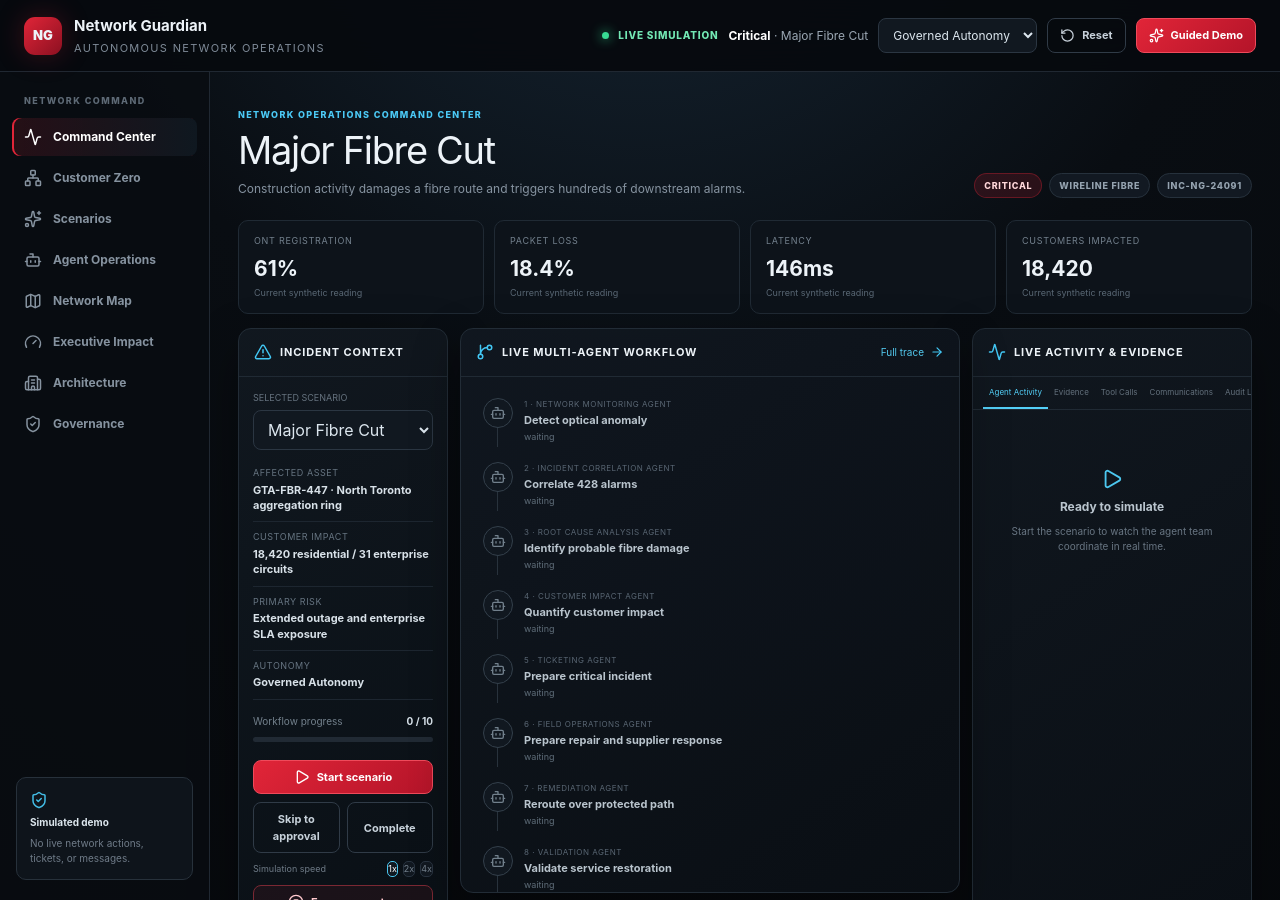
Scenario: Network Guardian › loads the IMS hardware failure scenario and its Voice Assurance Agent
Select "IMS Voice Core Hardware Failure" in the dropdown labelled "Selected scenario" at point(343, 430), box [253,410,433,450]
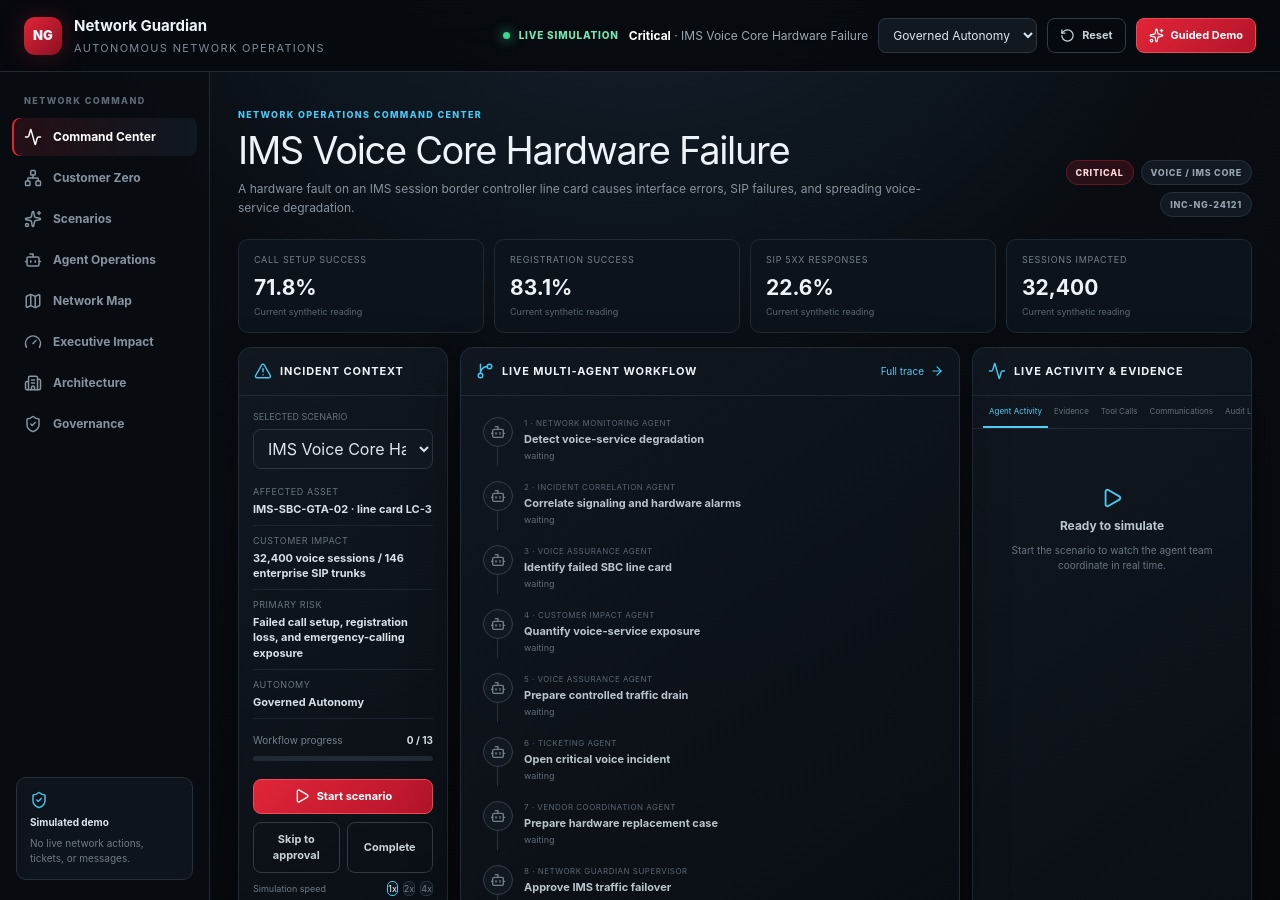
expect the heading "IMS Voice Core Hardware Failure" is shown: met, box [238,127,789,173]
expect the text "IMS-SBC-GTA-02 · line card LC-3" is shown: met, box [253,502,433,517]
Click the text "Identify failed SBC line card".
click(598, 567)  # box [524,560,672,574]
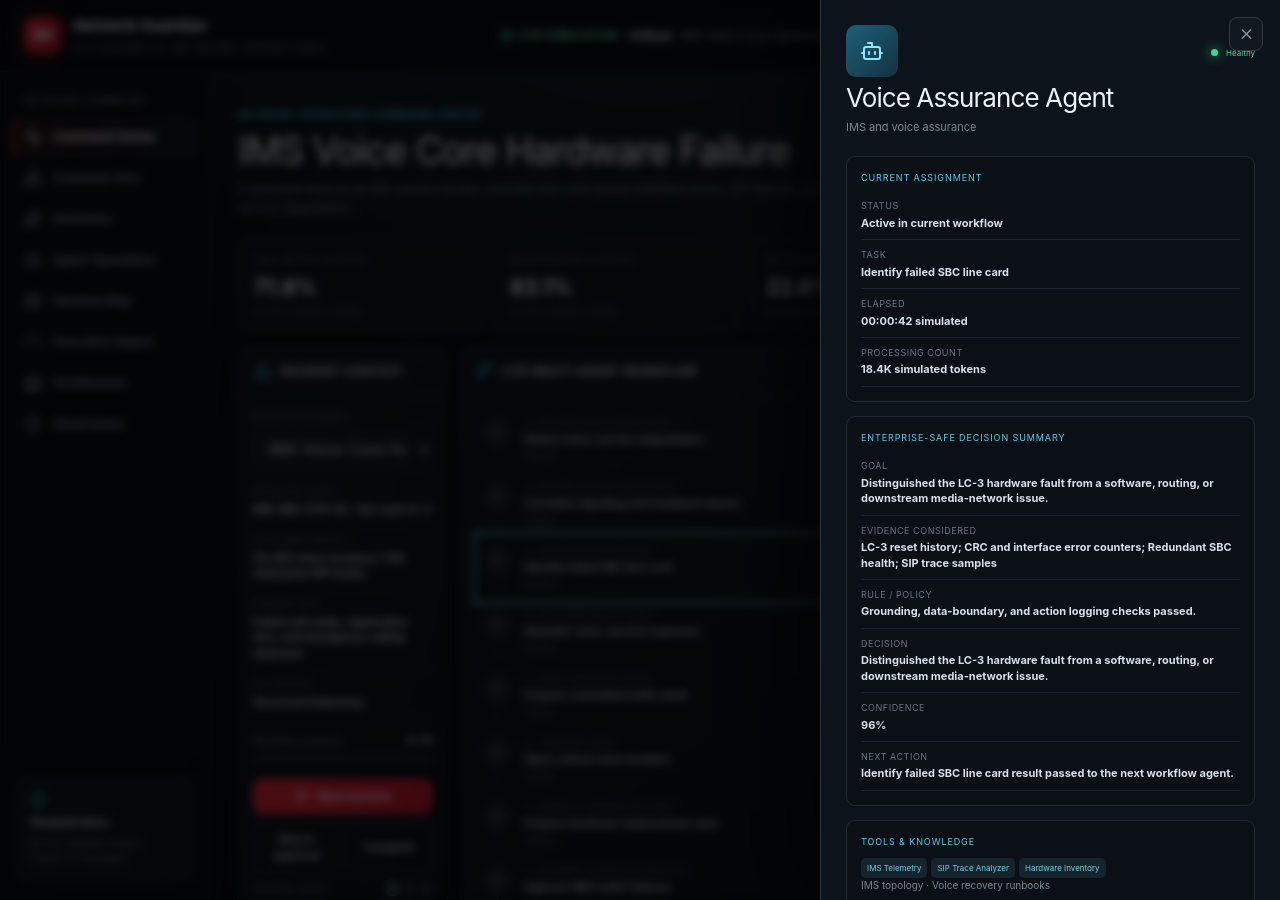
expect the heading "Voice Assurance Agent" is shown: met, box [846,82,1114,113]
